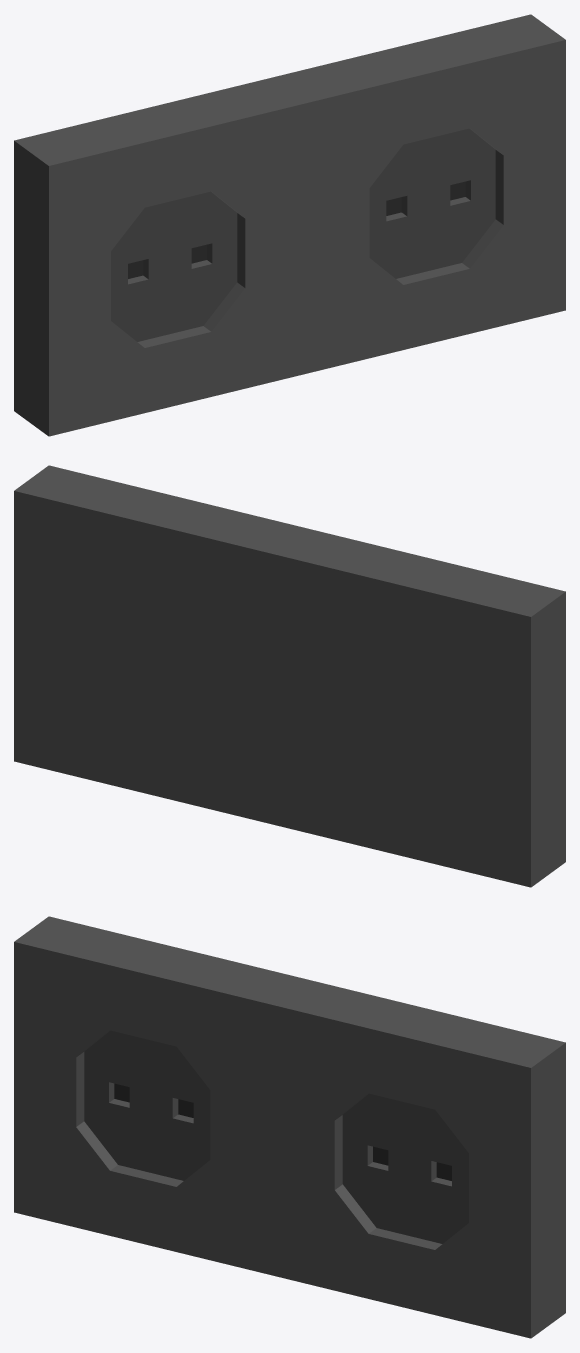
Rendered from Socket2_C2.fbx.
3 renders of one model, top to bottom at view 1: azimuth 30°, elevation 25°; view 2: azimuth 150°, elevation 25°; view 3: azimuth 330°, elevation 25°, orthographic.
Visible parts, largest first — view 1: Socket2_C2; view 2: Socket2_C2; view 3: Socket2_C2.
Part boxes in pixels (x1,y1,x2,y2): Socket2_C2: [14, 14, 565, 436]; Socket2_C2: [14, 465, 565, 887]; Socket2_C2: [14, 916, 565, 1338].
Bounding box in the file's own units: 16.89 × 8.44 × 1.97.
